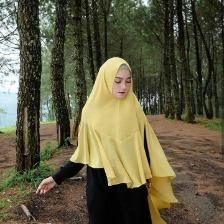HijabSyar-i: (74, 56, 181, 224)
